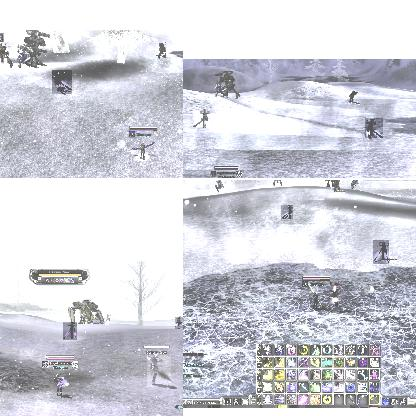caliana: (147, 355, 171, 387), (52, 70, 72, 94), (373, 240, 389, 264), (365, 118, 383, 138), (194, 109, 210, 127), (63, 322, 77, 340), (281, 205, 293, 219), (175, 316, 183, 329), (105, 313, 109, 325)
